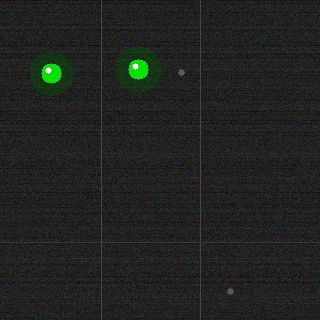green_normal: (39, 61, 63, 85), (126, 57, 150, 81)
